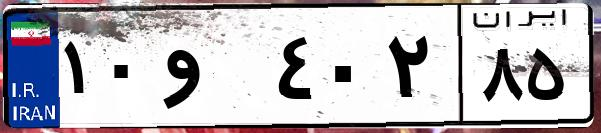0: (330, 28, 385, 110), (110, 28, 158, 98)
1: (57, 26, 110, 100)
2: (385, 28, 445, 110)
4: (270, 28, 330, 110)
5: (525, 38, 570, 115)
8: (475, 38, 525, 113)
و: (158, 20, 270, 120)
